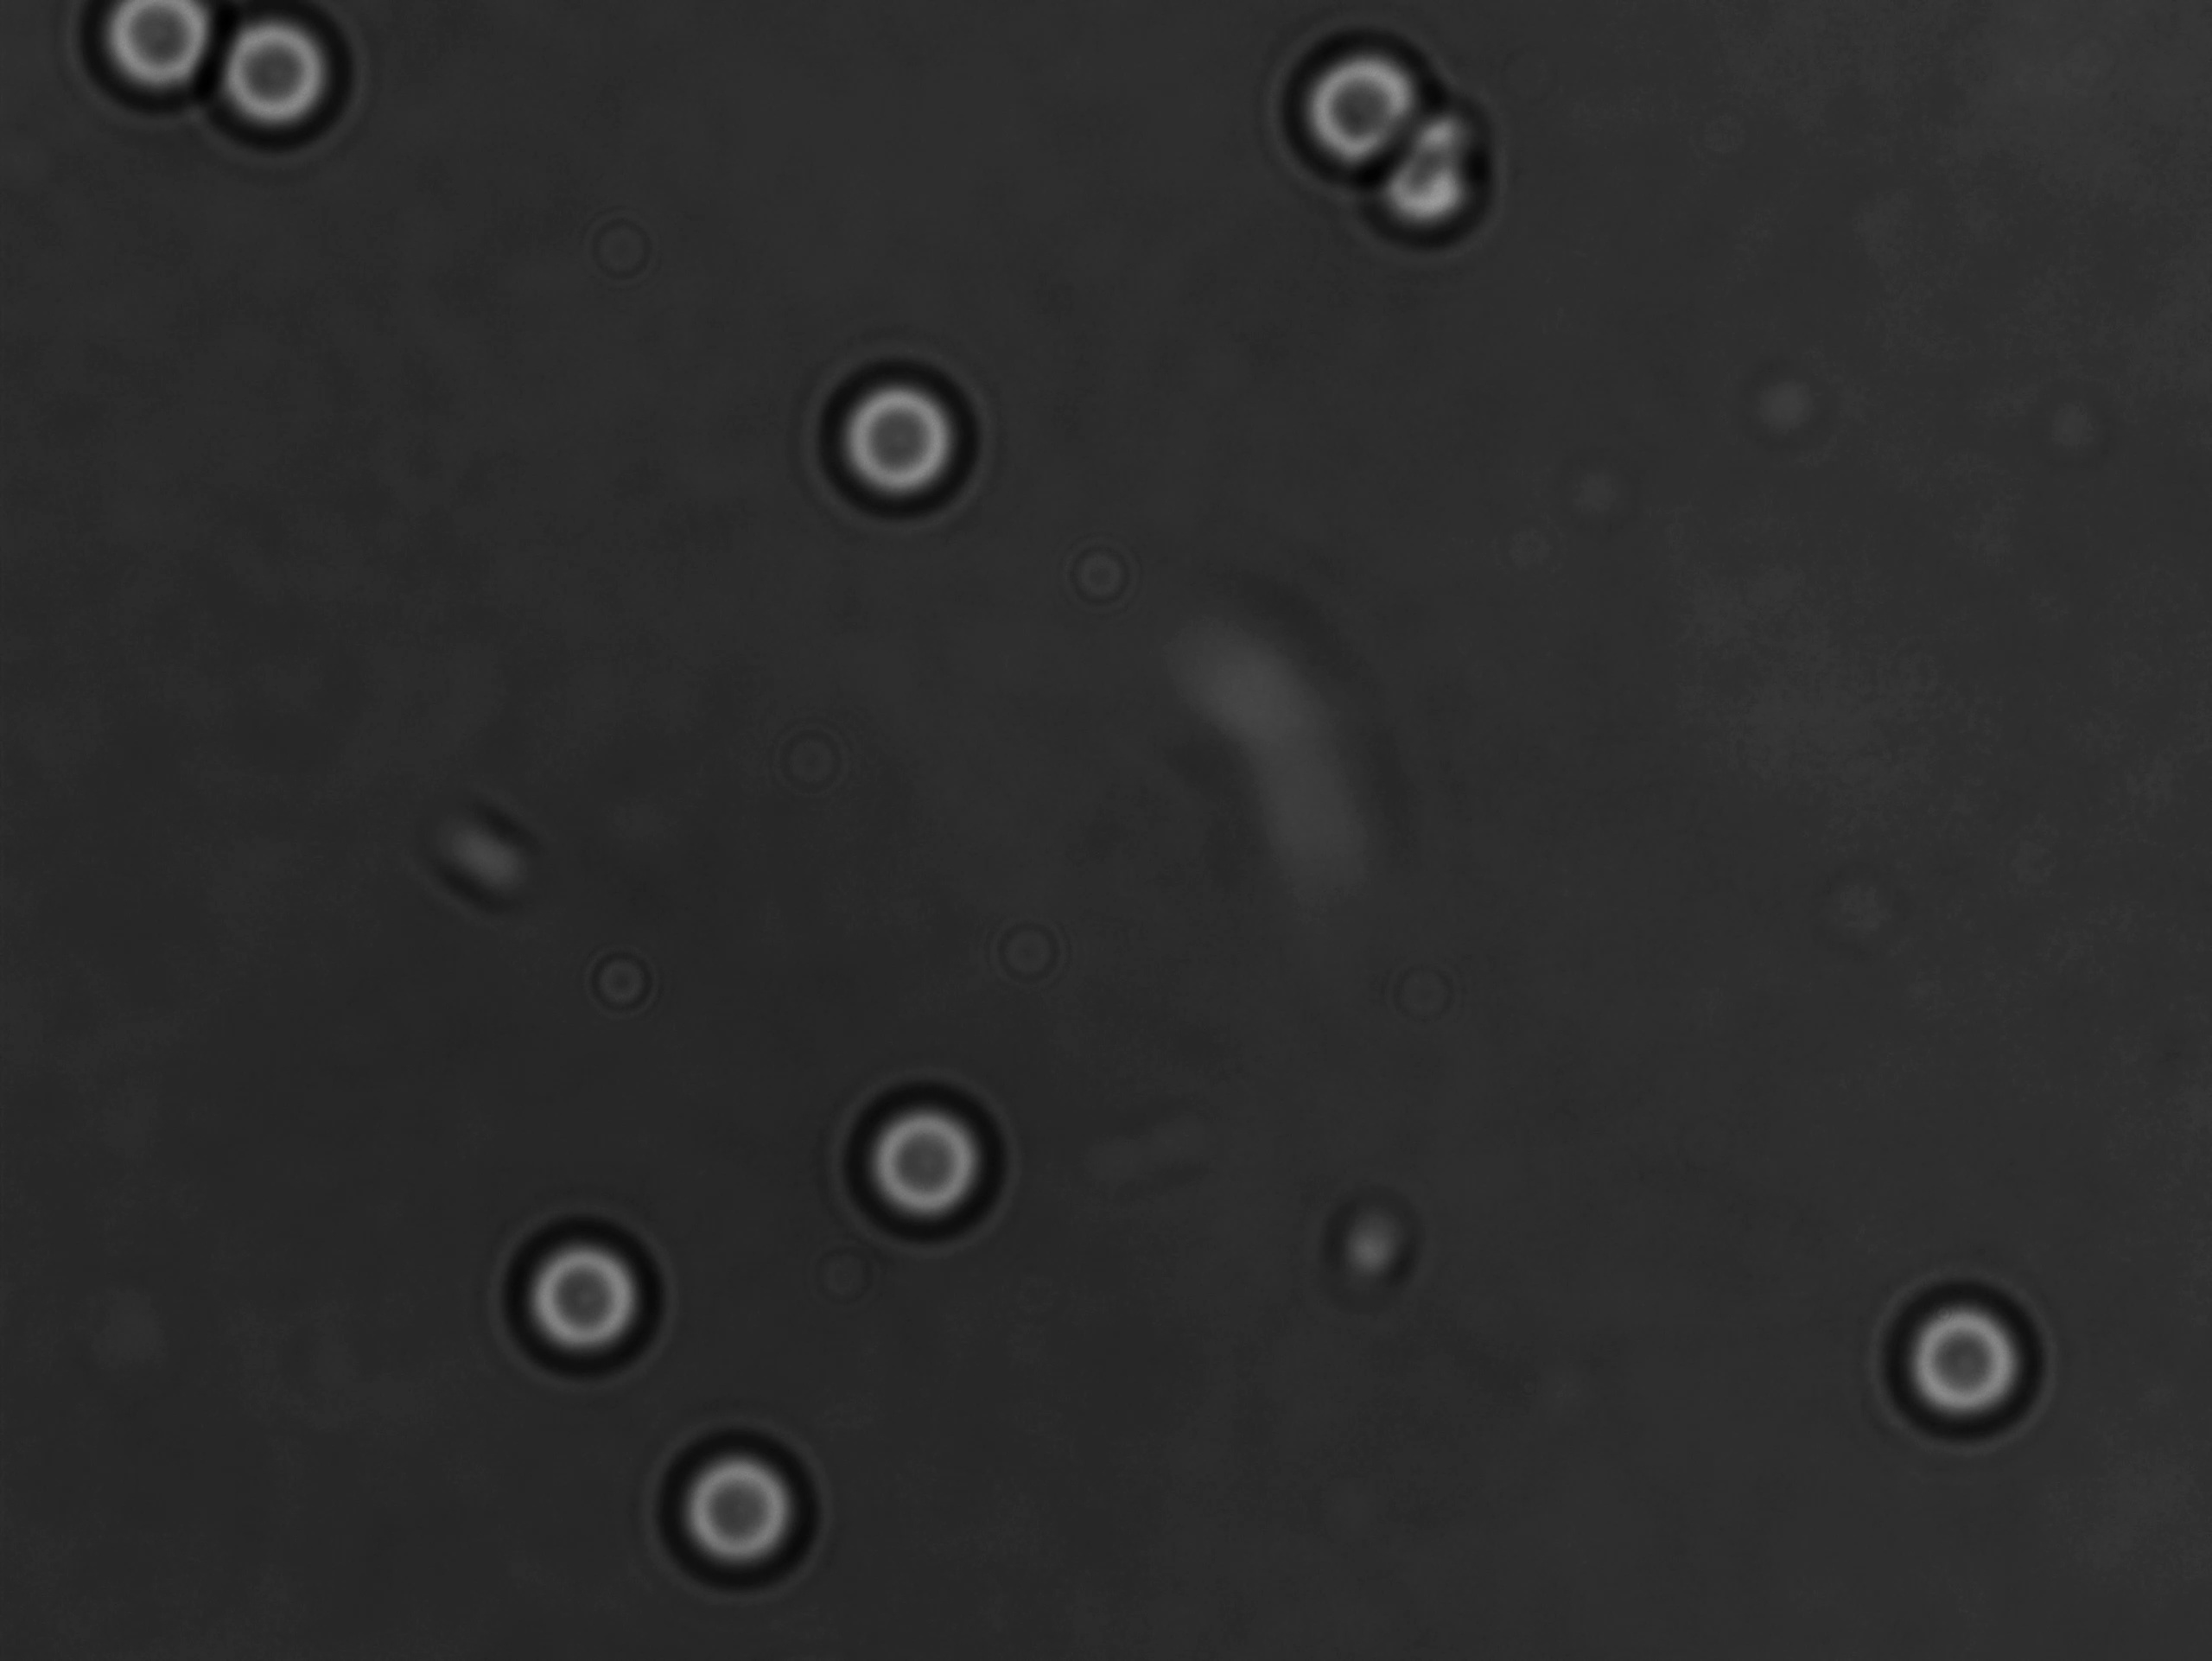depth:40: (1867, 1270, 2058, 1446), (811, 345, 993, 529), (839, 1070, 1022, 1241), (658, 1431, 834, 1602), (492, 1214, 658, 1380)
